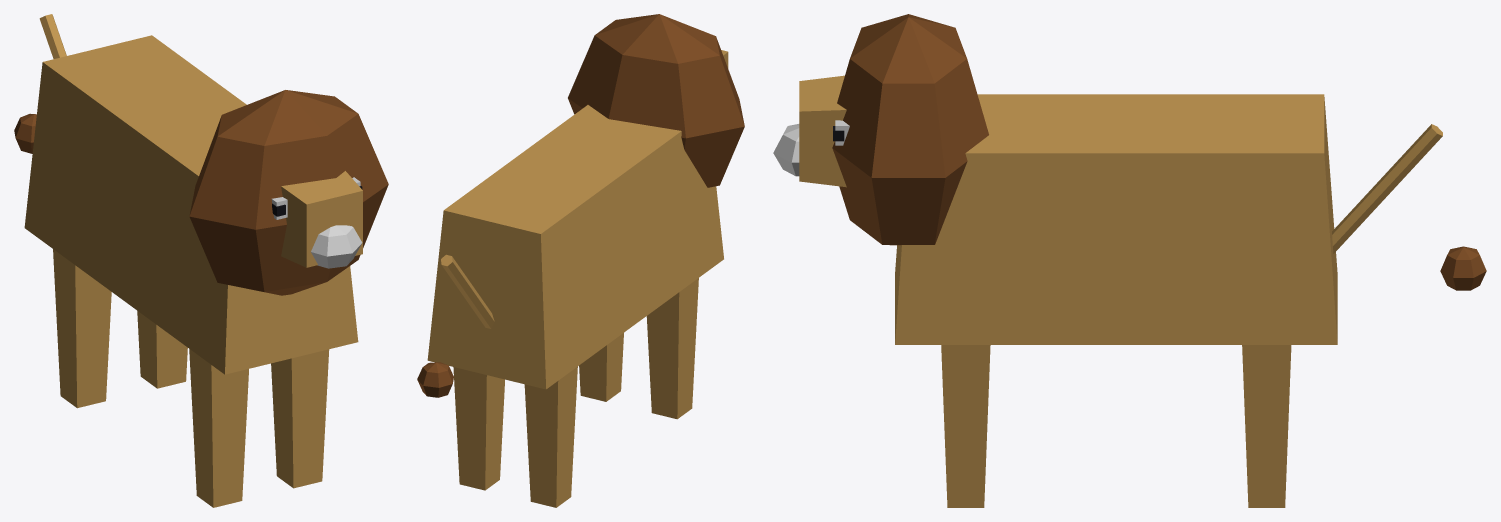
Rendered from lion.glb.
The picture shows the model from 3 angles, left to right: view 1: azimuth 30°, elevation 25°; view 2: azimuth 150°, elevation 25°; view 3: azimuth 270°, elevation 25°; orthographic projection. The views are drawn at different scales.
Visible parts, largest first — view 1: lion; view 2: lion; view 3: lion.
Boxes of the visible parts, left/top/right/bottom form: lion: left=14, top=14, right=388, bottom=507; lion: left=417, top=14, right=744, bottom=507; lion: left=773, top=14, right=1486, bottom=507.
Bounding box in the file's own units: 0.6843 × 1.5 × 2.1.
